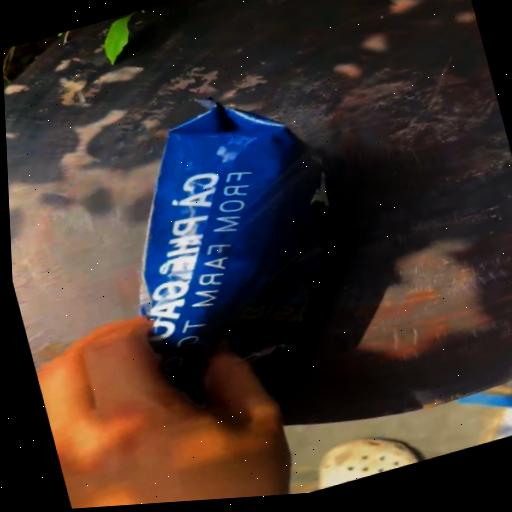cafe_hat: (140, 100, 329, 400)
